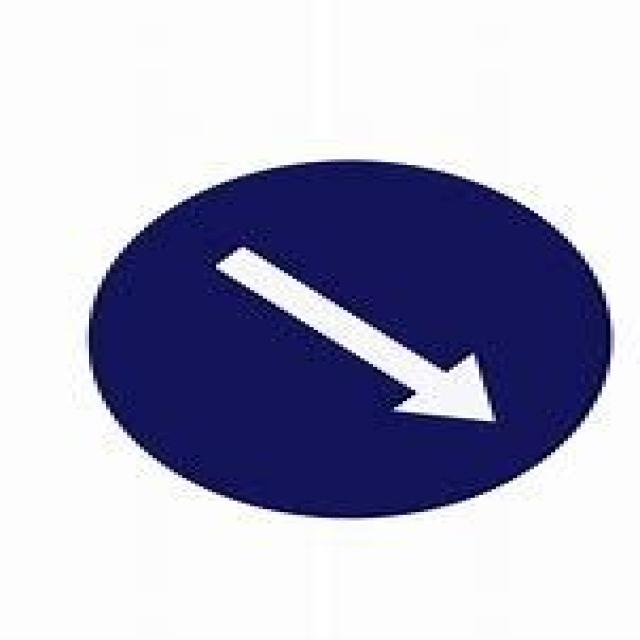COMPULSARY_KEEP_RIGHT: (88, 159, 618, 522)
